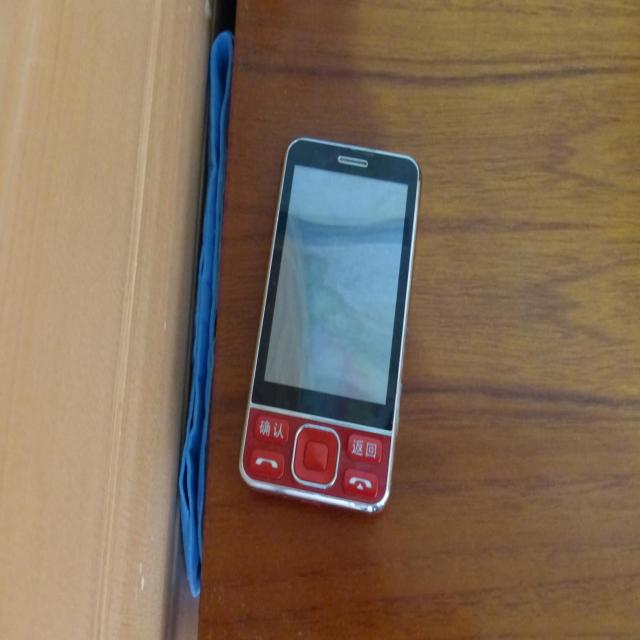Phone: (233, 136, 422, 518)
